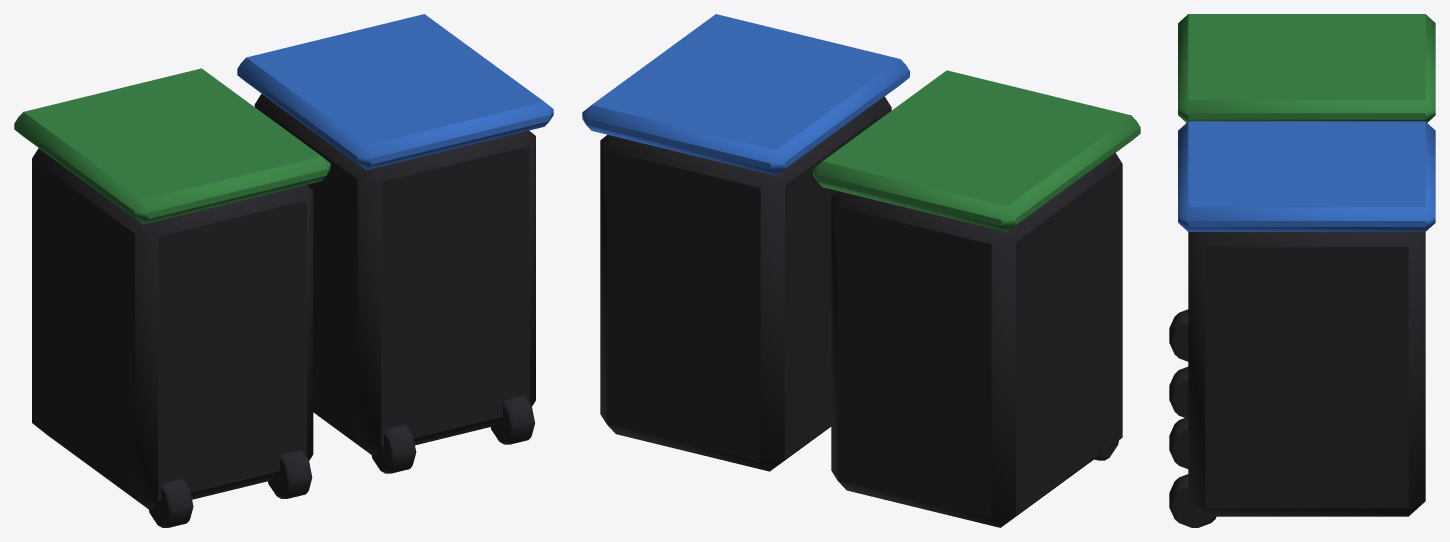
File: Bins.fbx
3 views of the same model, side by side, from view 1: azimuth 30°, elevation 25°; view 2: azimuth 150°, elevation 25°; view 3: azimuth 270°, elevation 25° (orthographic). The views are drawn at different scales.
Visible parts, largest first — view 1: Bins; view 2: Bins; view 3: Bins.
Part boxes in pixels (left/top/right/bottom): Bins: left=14, top=14, right=553, bottom=527; Bins: left=582, top=14, right=1140, bottom=527; Bins: left=1169, top=14, right=1435, bottom=527.
Size of the model in its own units: 1.41 by 1.08 by 0.7862.
